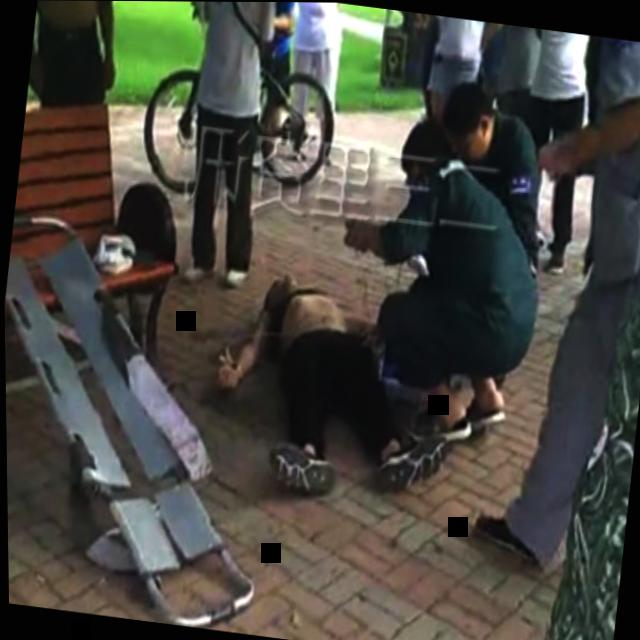Fall-Detected: (203, 242, 481, 519)
